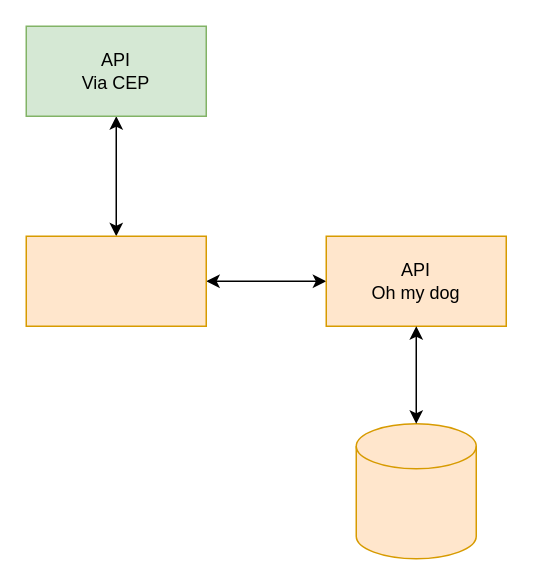
Some shapes in this 533 by 585 pixel diagram are drawn without their labels. Each missing label, with the box of its shape:
Database Oh My Dog: (355, 422, 476, 559)
Web Oh my dog: (25, 235, 206, 326)
